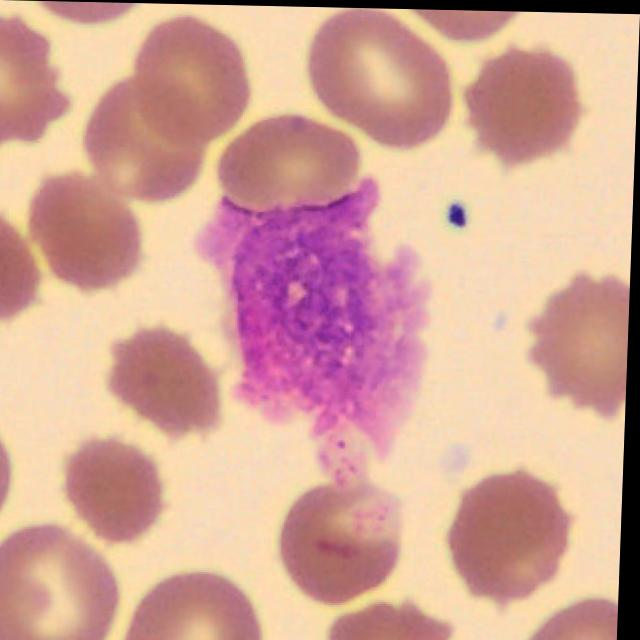Restos celulares: (197, 173, 434, 487)
